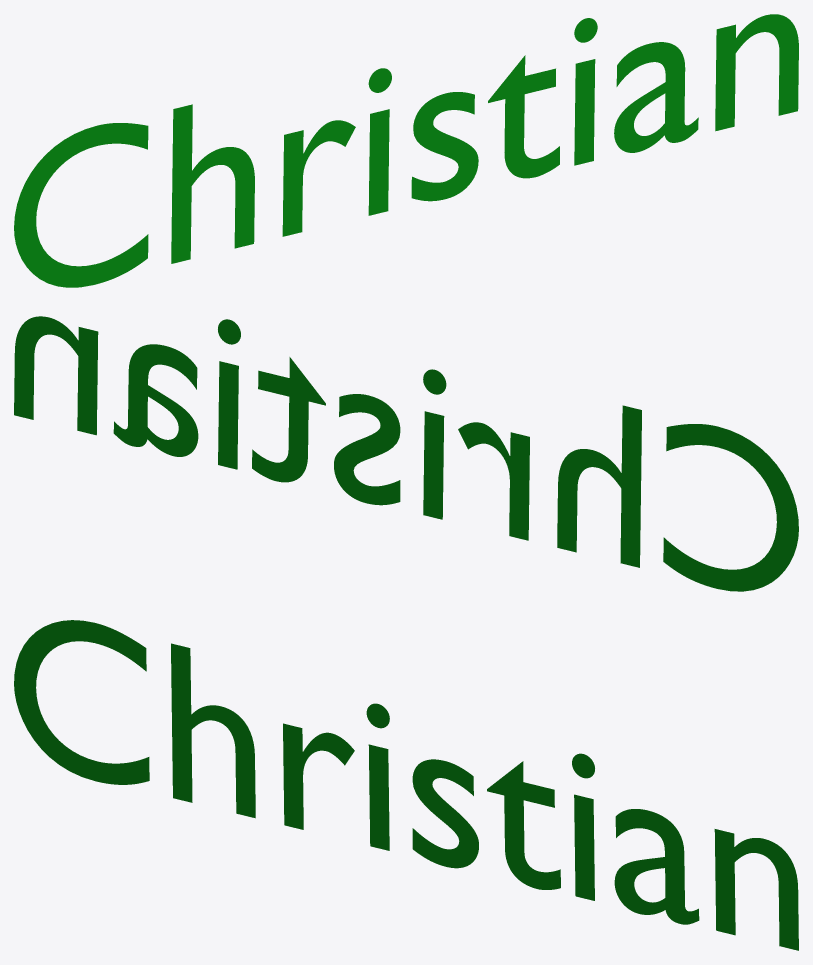
File: FirstName.obj
3 views of the same model, one above another, from view 1: azimuth 30°, elevation 25°; view 2: azimuth 150°, elevation 25°; view 3: azimuth 330°, elevation 25° (orthographic).
Visible parts, largest first — view 1: Text_Christian; view 2: Text_Christian; view 3: Text_Christian.
Part boxes in pixels (left/top/right/bottom): Text_Christian: left=14, top=14, right=798, bottom=287; Text_Christian: left=14, top=316, right=798, bottom=591; Text_Christian: left=14, top=620, right=798, bottom=950.
Bounding box in the file's own units: 3.58 × 0.6998 × 0.0171.
